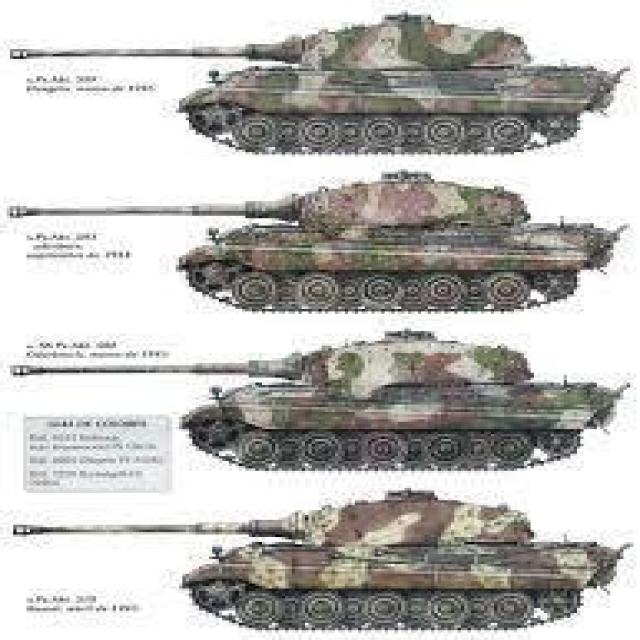Tanks: (7, 163, 633, 335), (5, 12, 635, 164), (10, 486, 623, 630), (6, 340, 624, 480)
